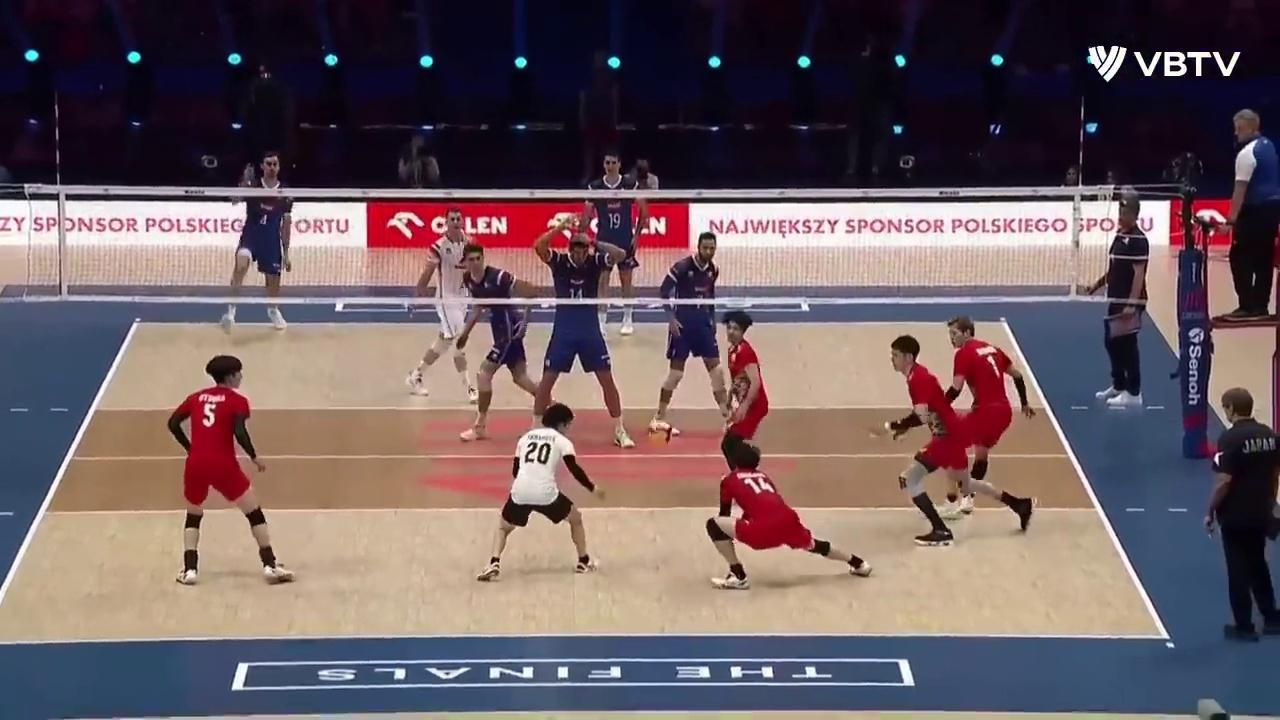ball: (649, 424, 672, 446)
